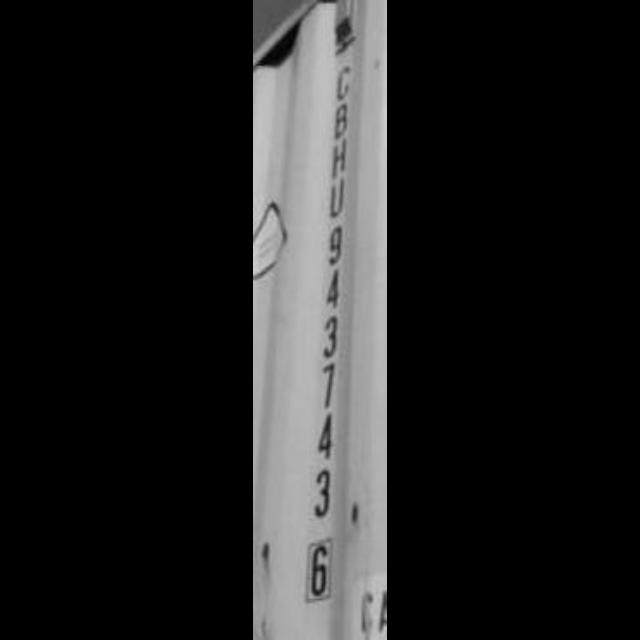3: (302, 464, 348, 524), (309, 311, 356, 364)
4: (305, 406, 353, 466), (316, 270, 354, 318)
6: (300, 534, 340, 610)
7: (306, 358, 346, 408)
9: (316, 219, 358, 271)
b: (322, 96, 364, 138)
c: (324, 60, 366, 100)
h: (323, 135, 359, 181)
u: (321, 174, 357, 220)
